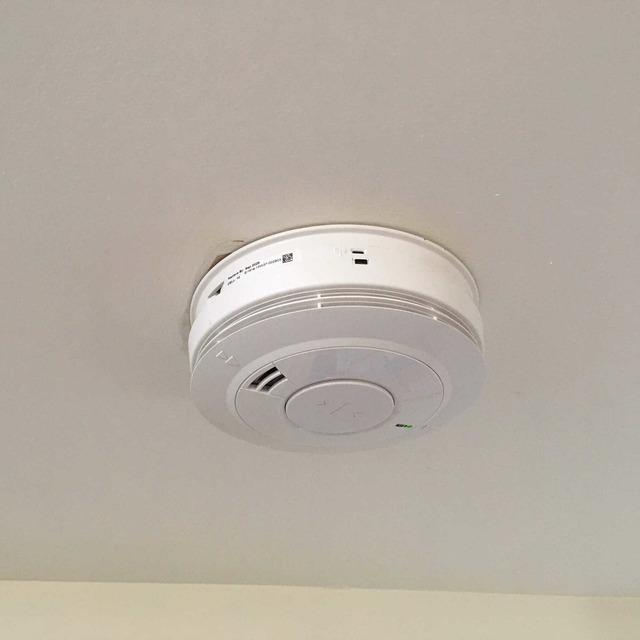Smoke-Detector: (178, 216, 482, 464)
